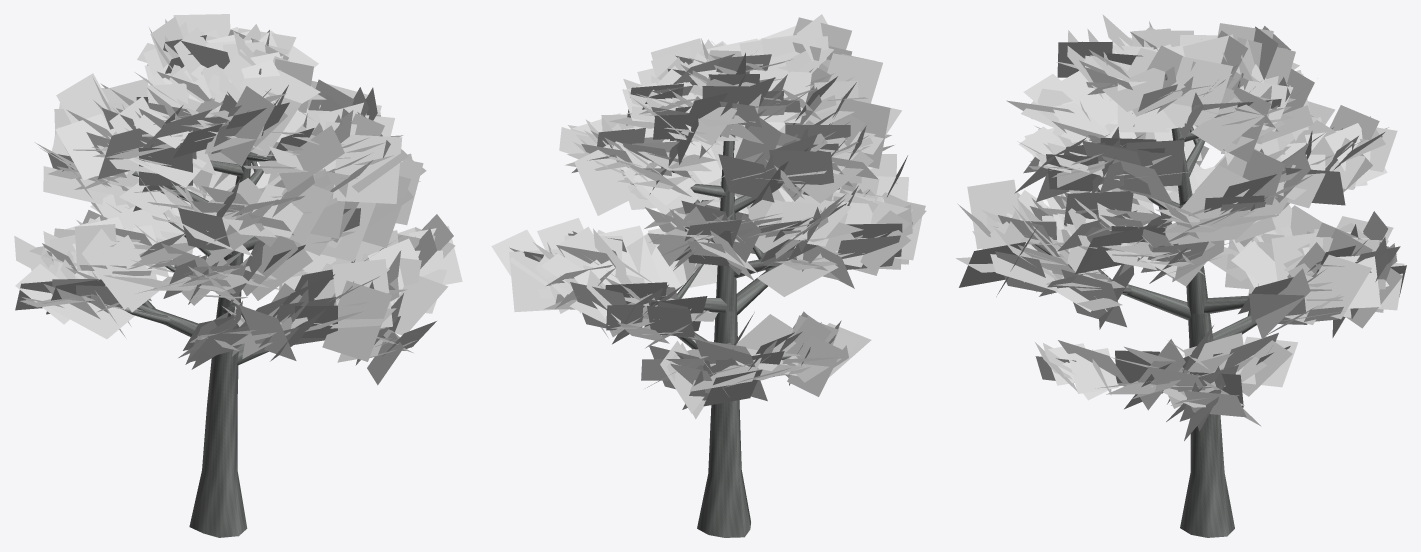
Rendered from Beech_Stand_v01.fbx.
3 views of the same model, side by side, from view 1: azimuth 30°, elevation 25°; view 2: azimuth 150°, elevation 25°; view 3: azimuth 270°, elevation 25° (orthographic). The views are drawn at different scales.
Visible parts, largest first — view 1: Foliage, Bark; view 2: Foliage, Bark; view 3: Foliage, Bark.
Boxes of the visible parts, x1,y1,x2,y2 form: Foliage: (14, 14, 462, 385); Bark: (123, 68, 272, 537); Foliage: (491, 14, 926, 419); Bark: (671, 74, 791, 537); Foliage: (956, 14, 1406, 440); Bark: (1034, 73, 1258, 537).
Size of the model in its own units: 14.81 by 17.23 by 14.77.
